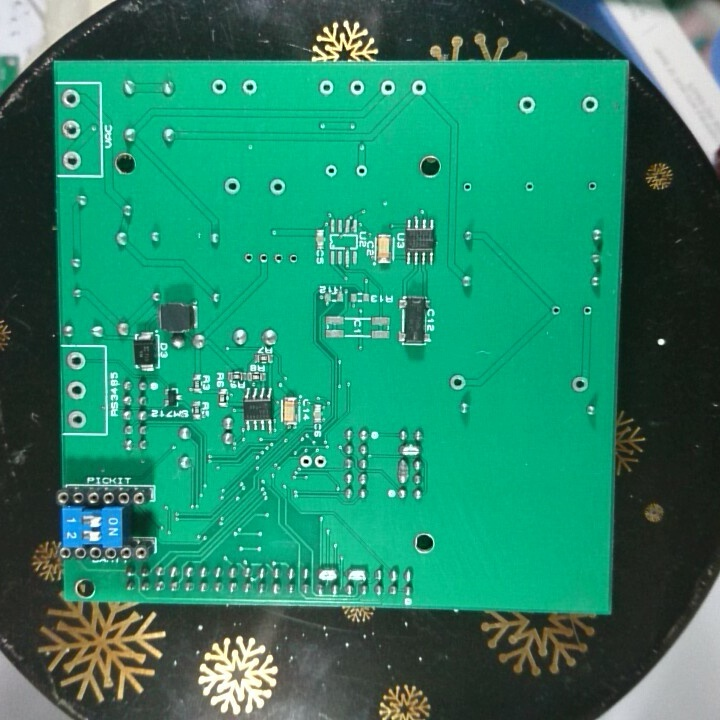F: (60, 117, 85, 143), (59, 147, 84, 172), (59, 87, 83, 112), (64, 349, 89, 373), (65, 408, 90, 432), (65, 377, 88, 402), (408, 76, 431, 99), (516, 95, 539, 117), (579, 93, 602, 115), (239, 76, 262, 98), (221, 175, 243, 198), (266, 176, 288, 199), (447, 372, 467, 394), (378, 78, 398, 100), (570, 374, 590, 395), (346, 77, 367, 97), (317, 77, 336, 98), (208, 78, 229, 96), (312, 452, 330, 473), (548, 302, 566, 320), (459, 178, 476, 197), (297, 453, 314, 472), (520, 178, 538, 195), (241, 249, 257, 267), (257, 249, 271, 269), (285, 249, 299, 269), (322, 163, 339, 179), (354, 163, 371, 179), (271, 249, 286, 267), (580, 304, 596, 320), (585, 178, 599, 195)
P: (342, 566, 371, 586), (315, 564, 344, 583), (396, 442, 423, 459), (395, 458, 410, 485)
